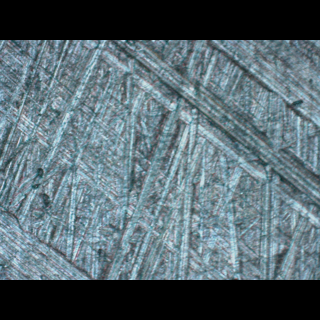d: (83, 39, 319, 237), (0, 206, 99, 279)
